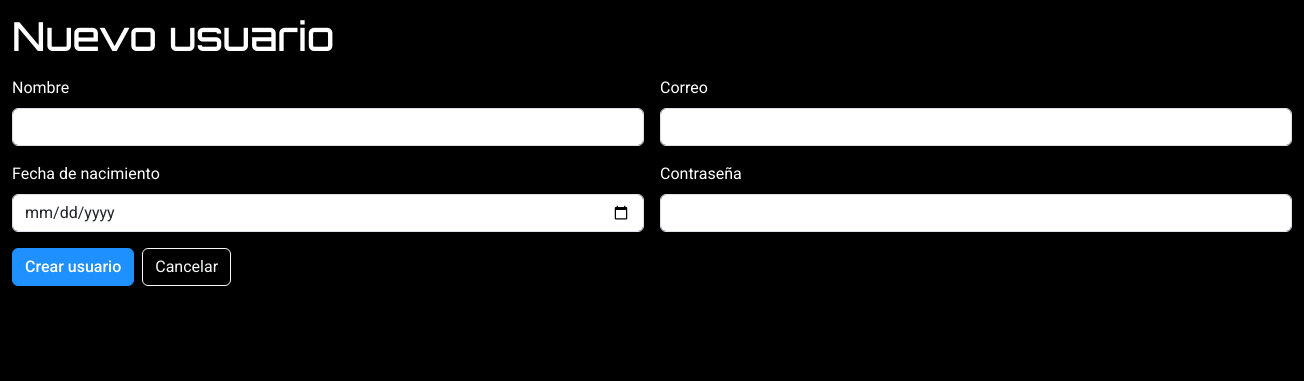
it: AdminUsuarioFormView - nuevo usuario › muestra el error que devuelve la creación
Type "Ana" into the field labelled "Nombre" at [328, 127], box [12,108,644,146]
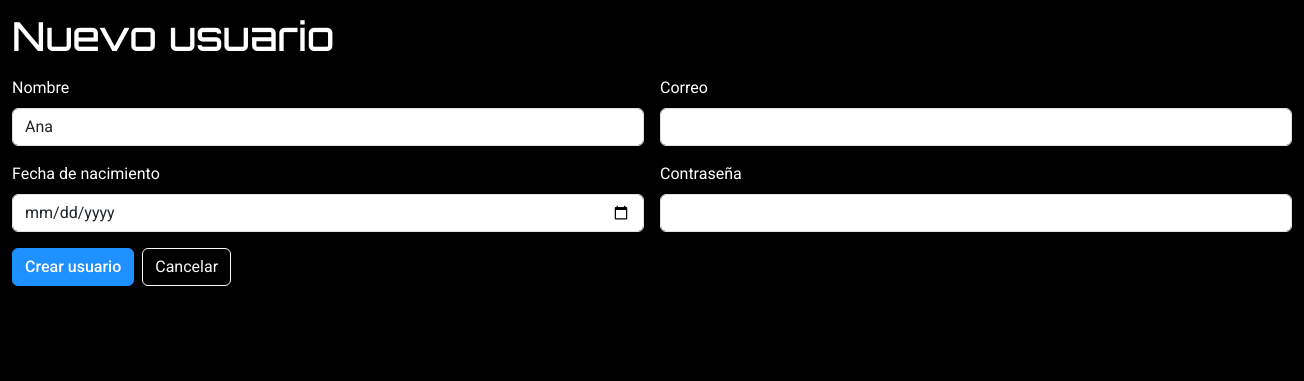
Type "ana@duocuc.cl" into the field labelled "Correo" at [976, 127], box [660,108,1292,146]
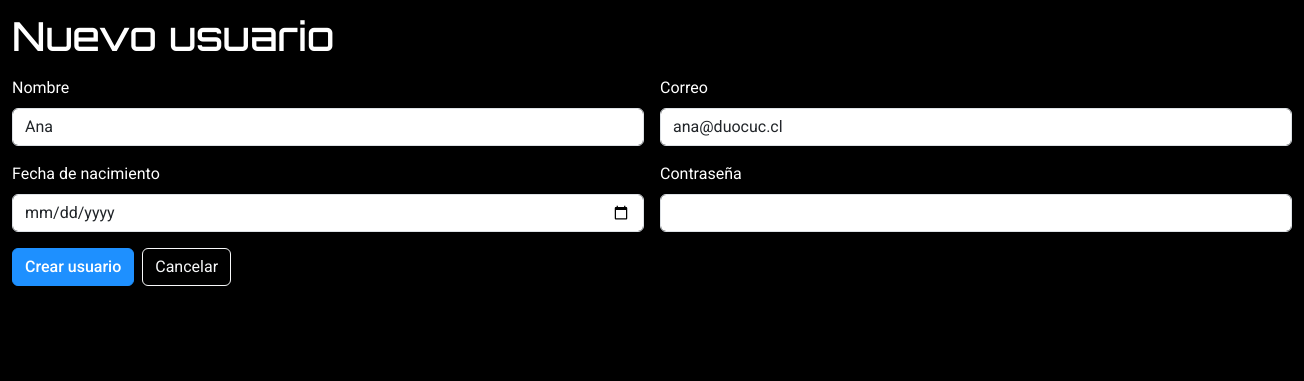
Type "2000-01-01" into the date field labelled "Fecha de nacimiento" at [328, 213], box [12,194,644,232]
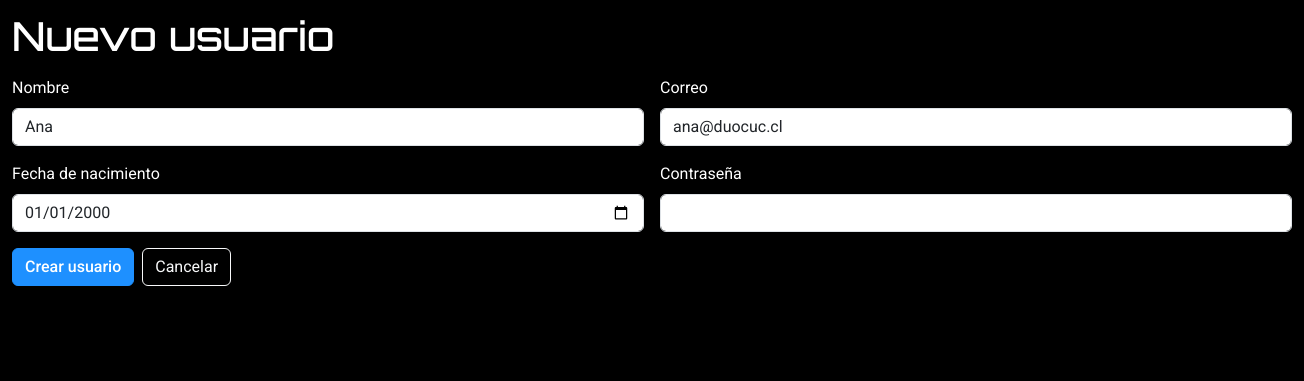
Type "secreta1" into the password field labelled "Contraseña" at [976, 213], box [660,194,1292,232]
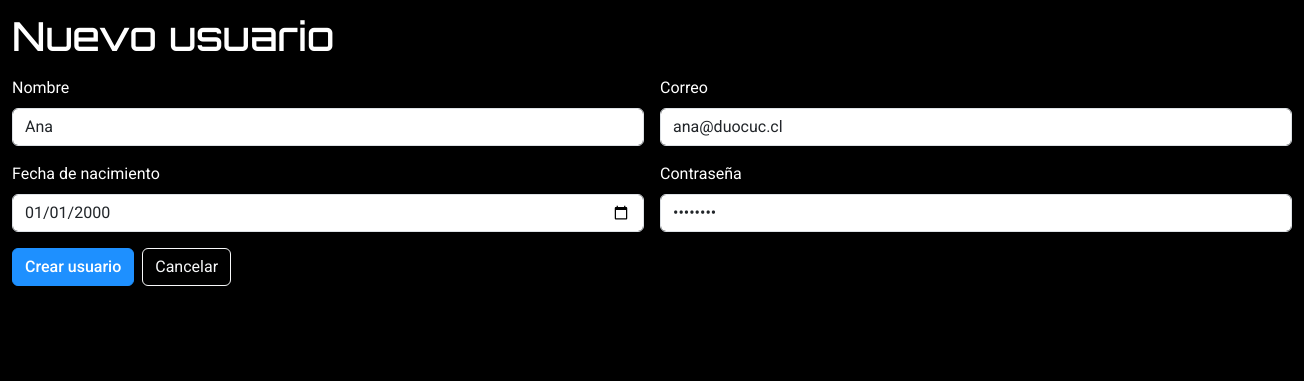
Click the button "Crear usuario" at [73, 267], box [12,248,134,286]
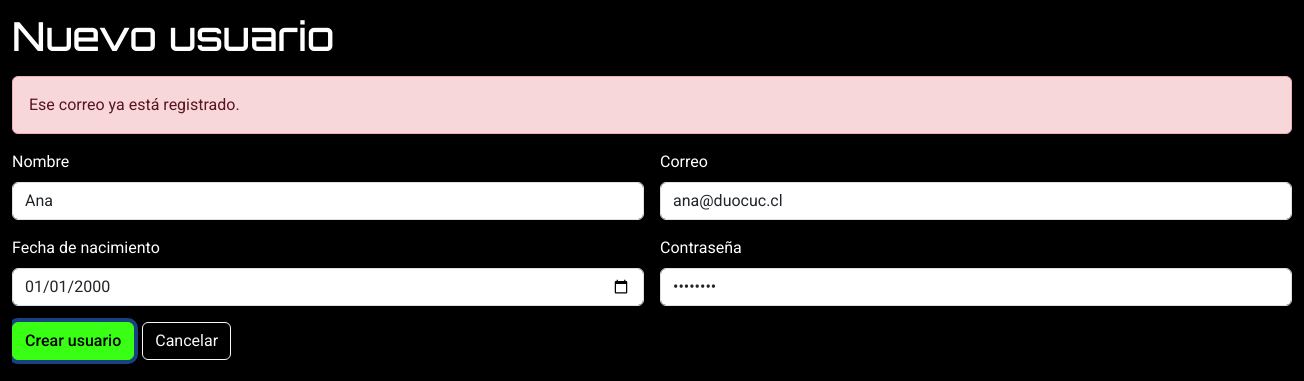
Expected: the message reads "Ese correo ya está registrado.", [29,95,240,114]
